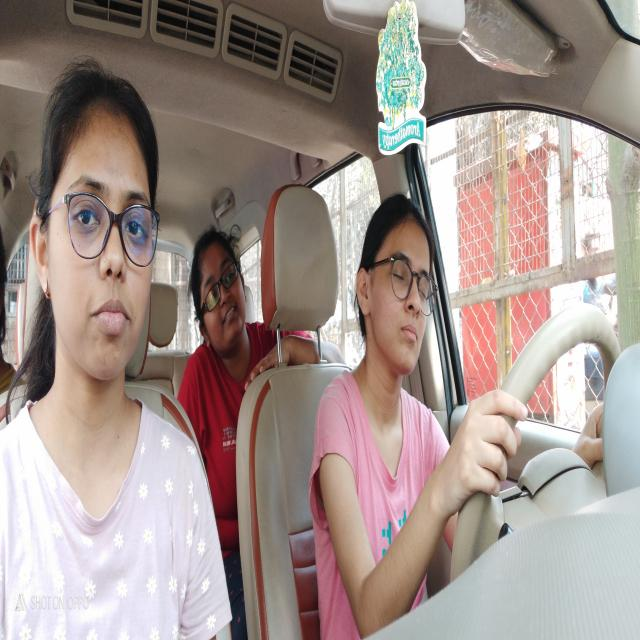drowsy: (352, 192, 442, 390)
person: (28, 53, 160, 386), (189, 221, 248, 358)
